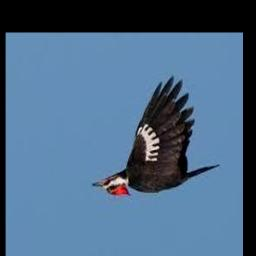Woodpecker: (94, 77, 220, 197)
